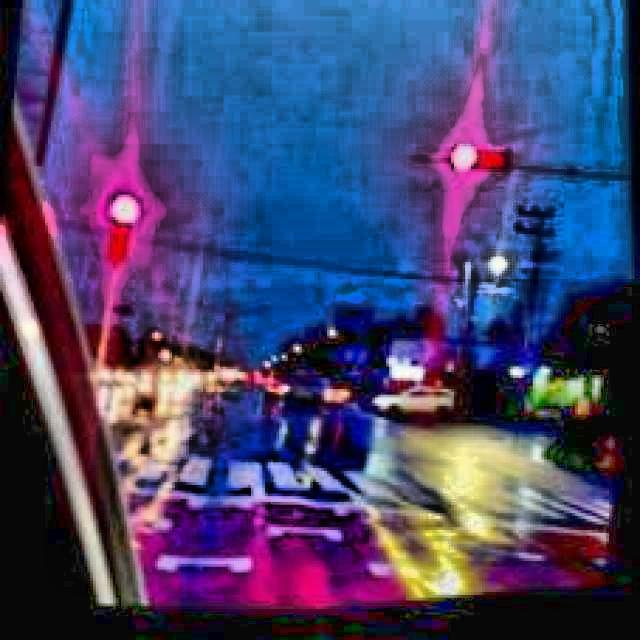red: (104, 193, 144, 269), (450, 152, 514, 186)
